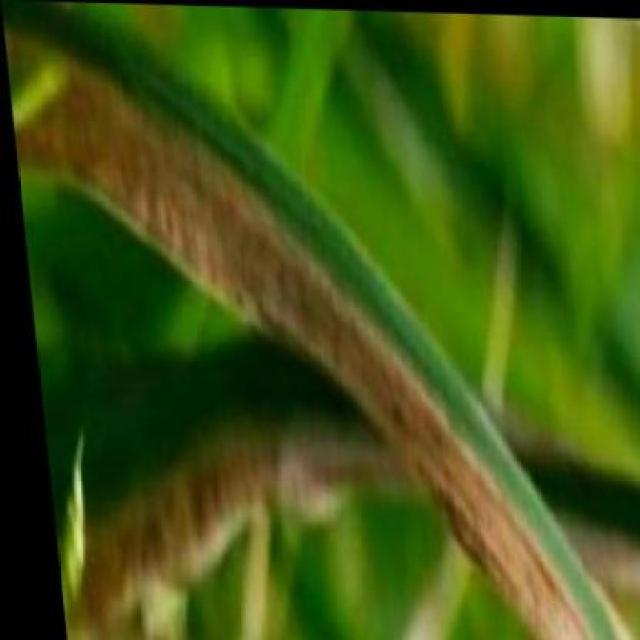Brown_Spot: (3, 1, 354, 367), (378, 11, 640, 311), (366, 354, 636, 635)
